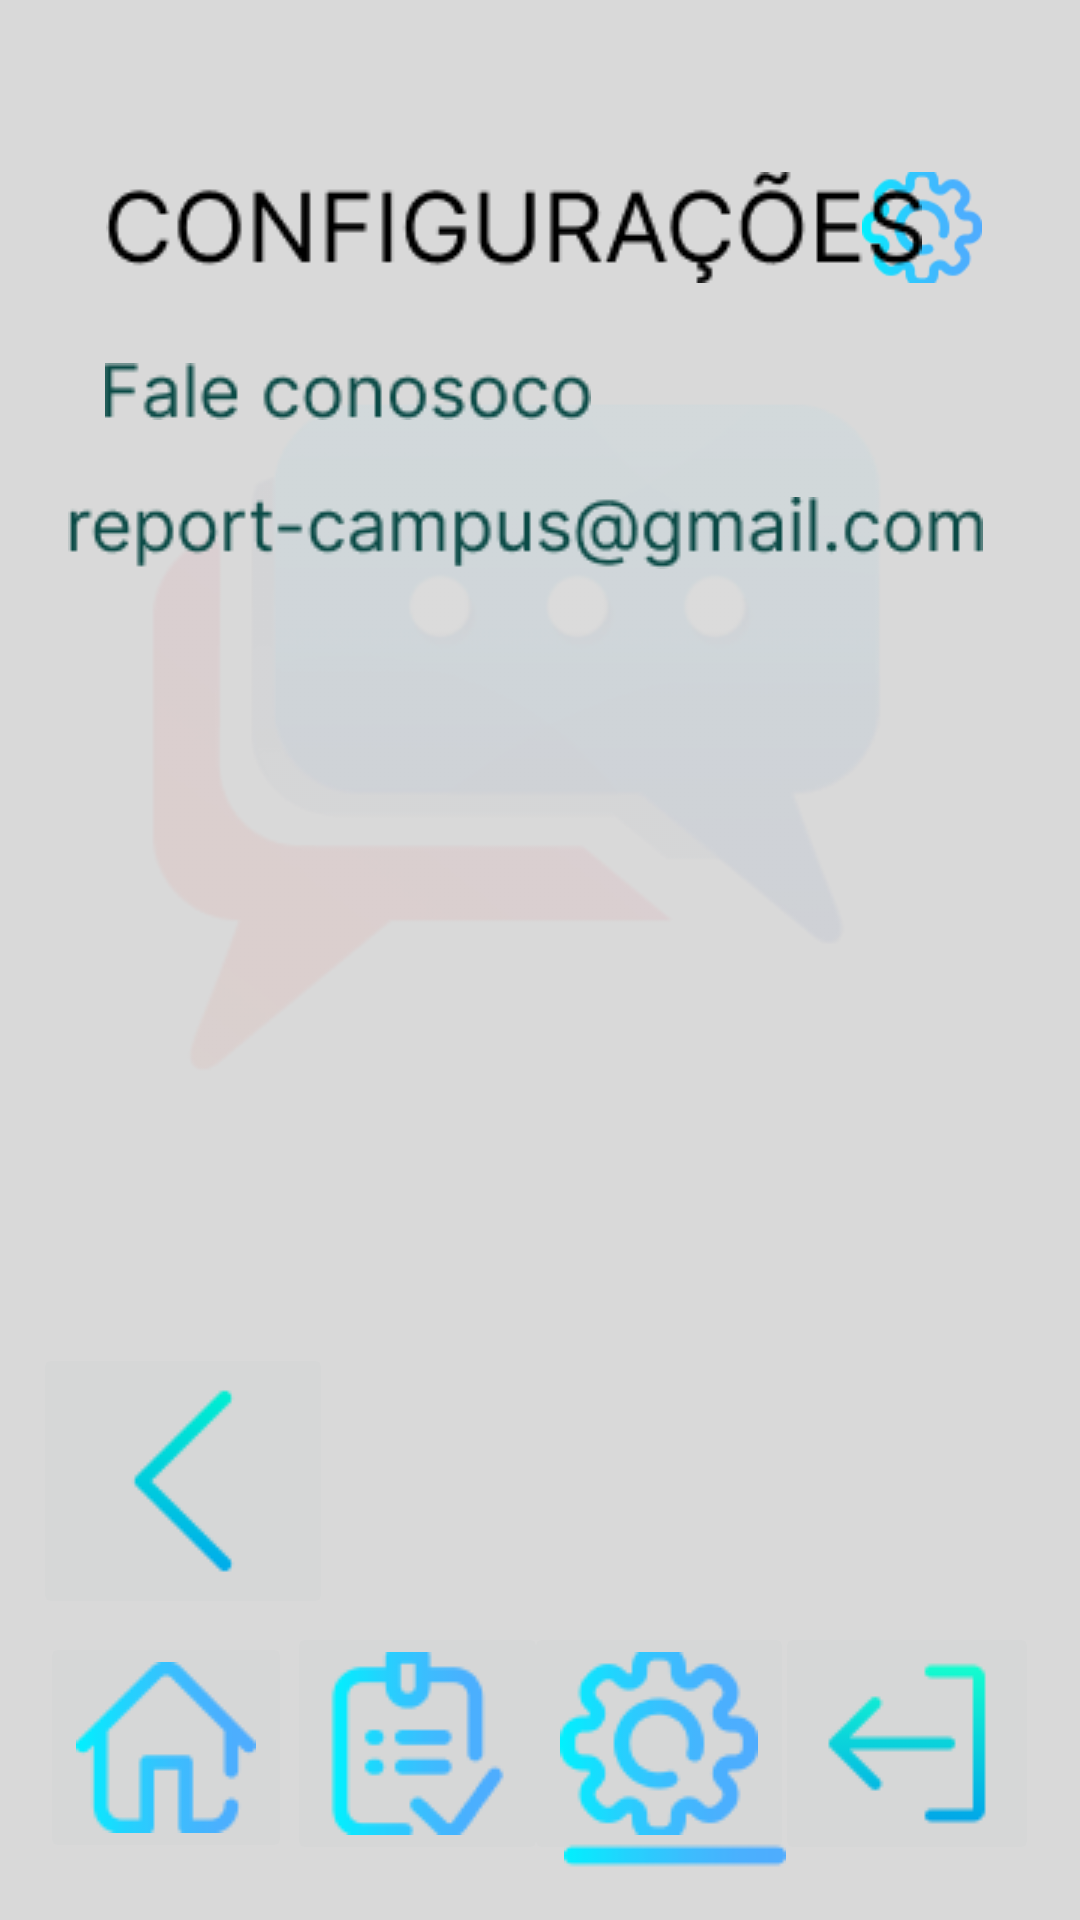

Icon click points for this 1080w x 1920h phone screenshot, format [x,y]:
iconehome: [166,1747]
iconelist: [417,1743]
iconesair: [907,1743]
voltar: [183,1481]
